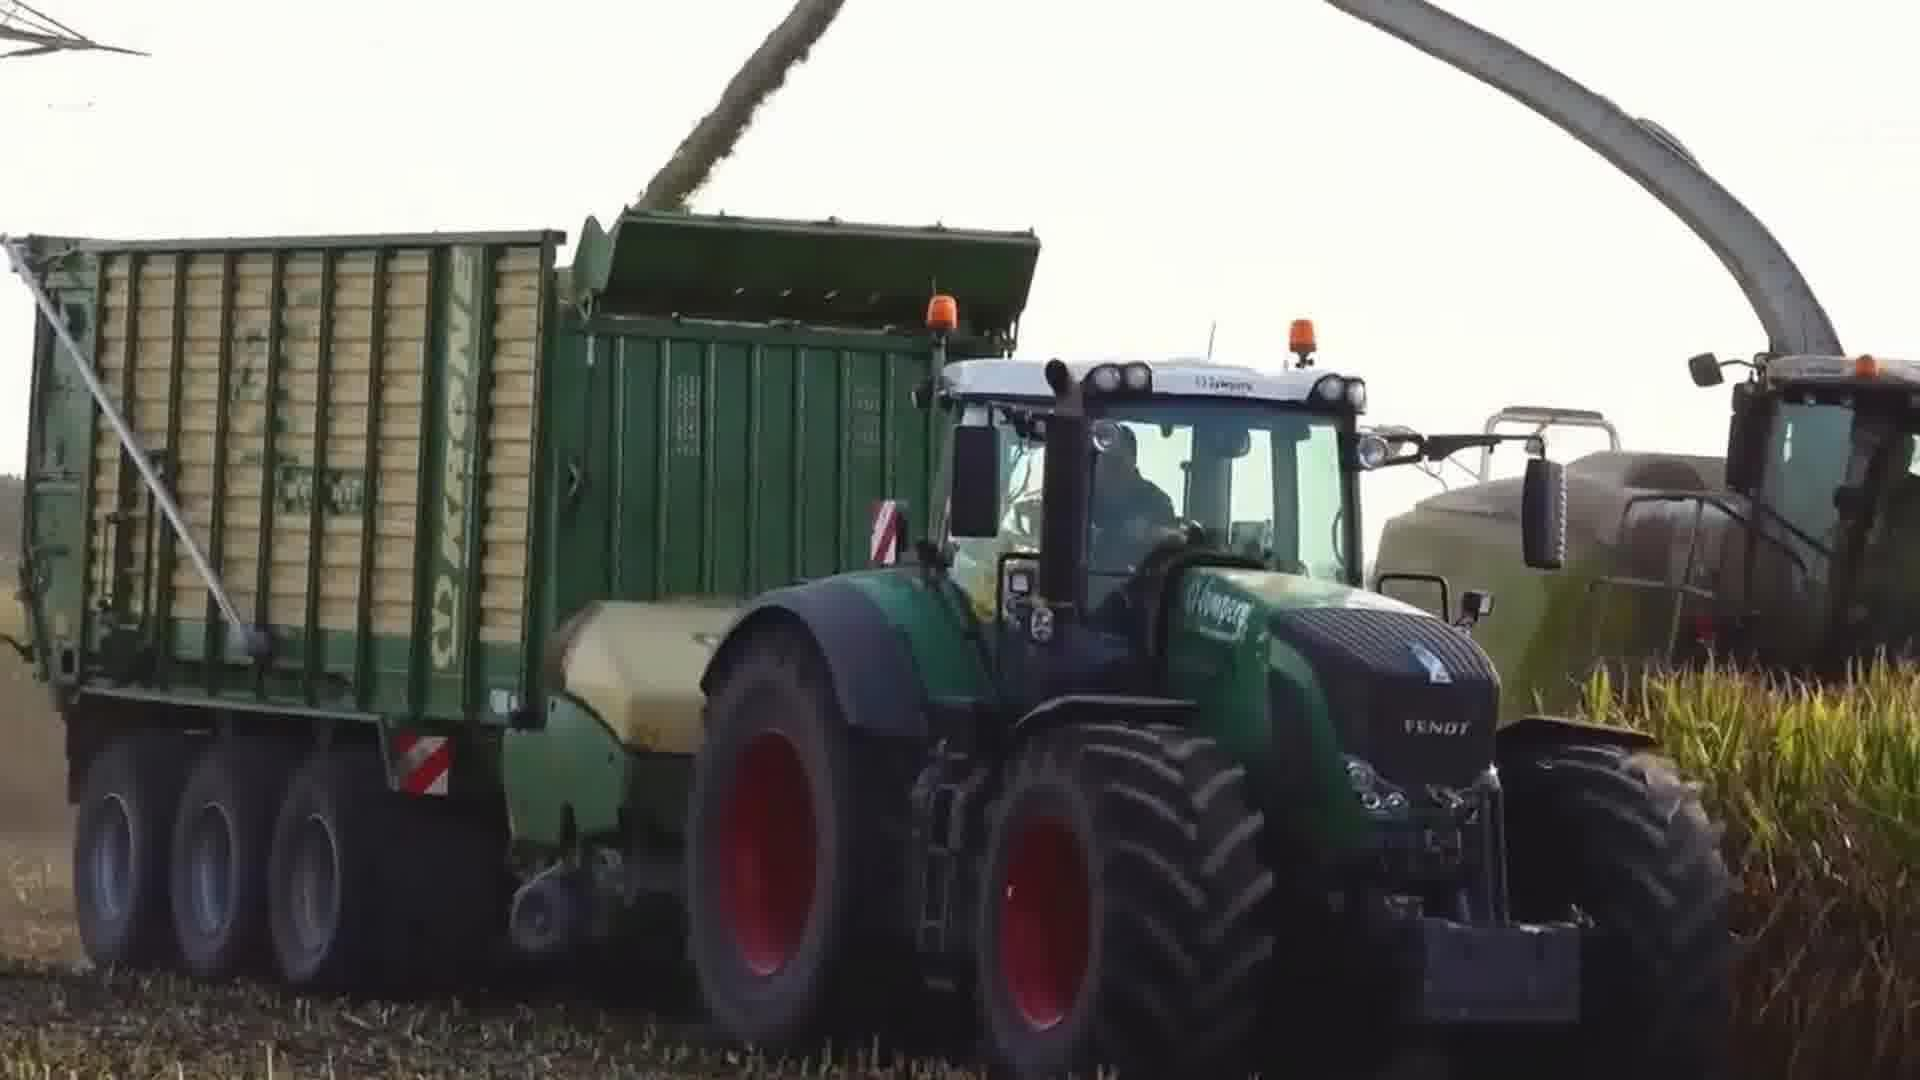combine harvester: (1297, 0, 1920, 789)
tractor: (674, 284, 1740, 1080)
trailer: (4, 199, 1047, 1019)
